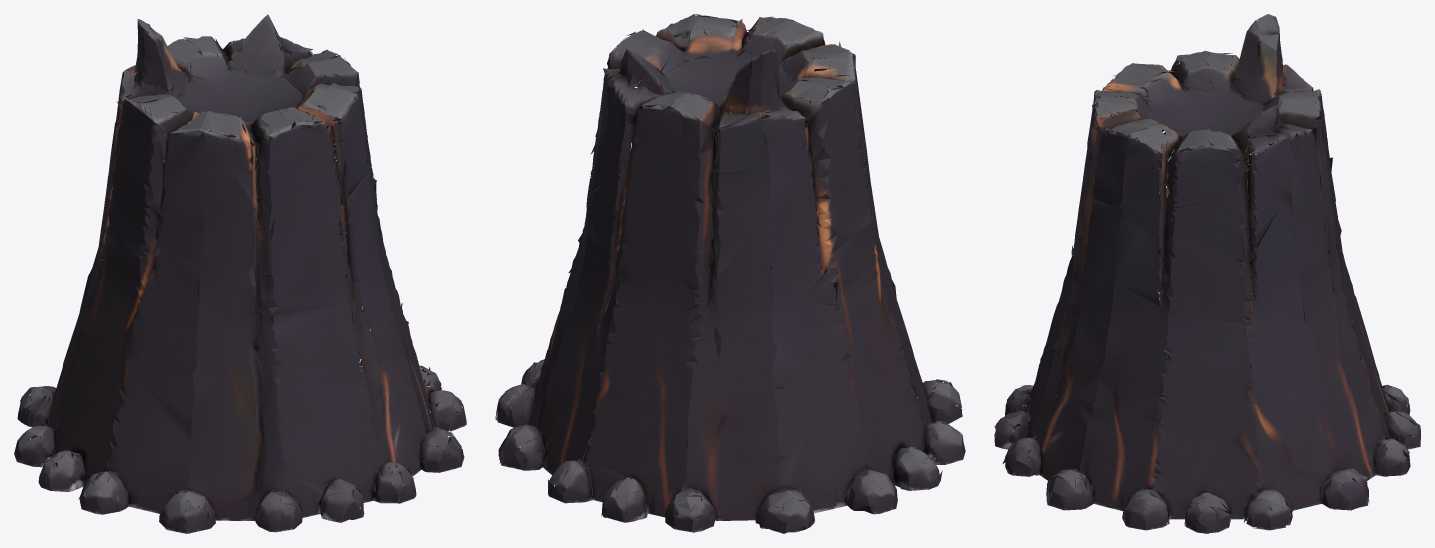
Rendered from Forge_BrokenColumn.glb.
3 renders of one model, left to right at view 1: azimuth 30°, elevation 25°; view 2: azimuth 150°, elevation 25°; view 3: azimuth 270°, elevation 25°, orthographic. The views are drawn at different scales.
Parts seen in each view (by area): view 1: Forge_BrokenColumn; view 2: Forge_BrokenColumn; view 3: Forge_BrokenColumn.
Boxes of the visible parts, box(x1,y1,x2,y2) form: Forge_BrokenColumn: box(14, 14, 466, 533); Forge_BrokenColumn: box(495, 14, 965, 533); Forge_BrokenColumn: box(994, 14, 1420, 533).
Size of the model in its own units: 2.03 by 2 by 1.96.
Materials: 1 (1 with a texture image).
